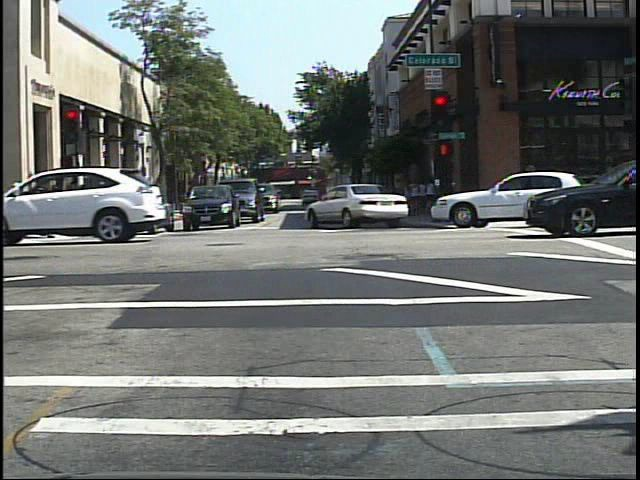person: (114, 181, 133, 221)
